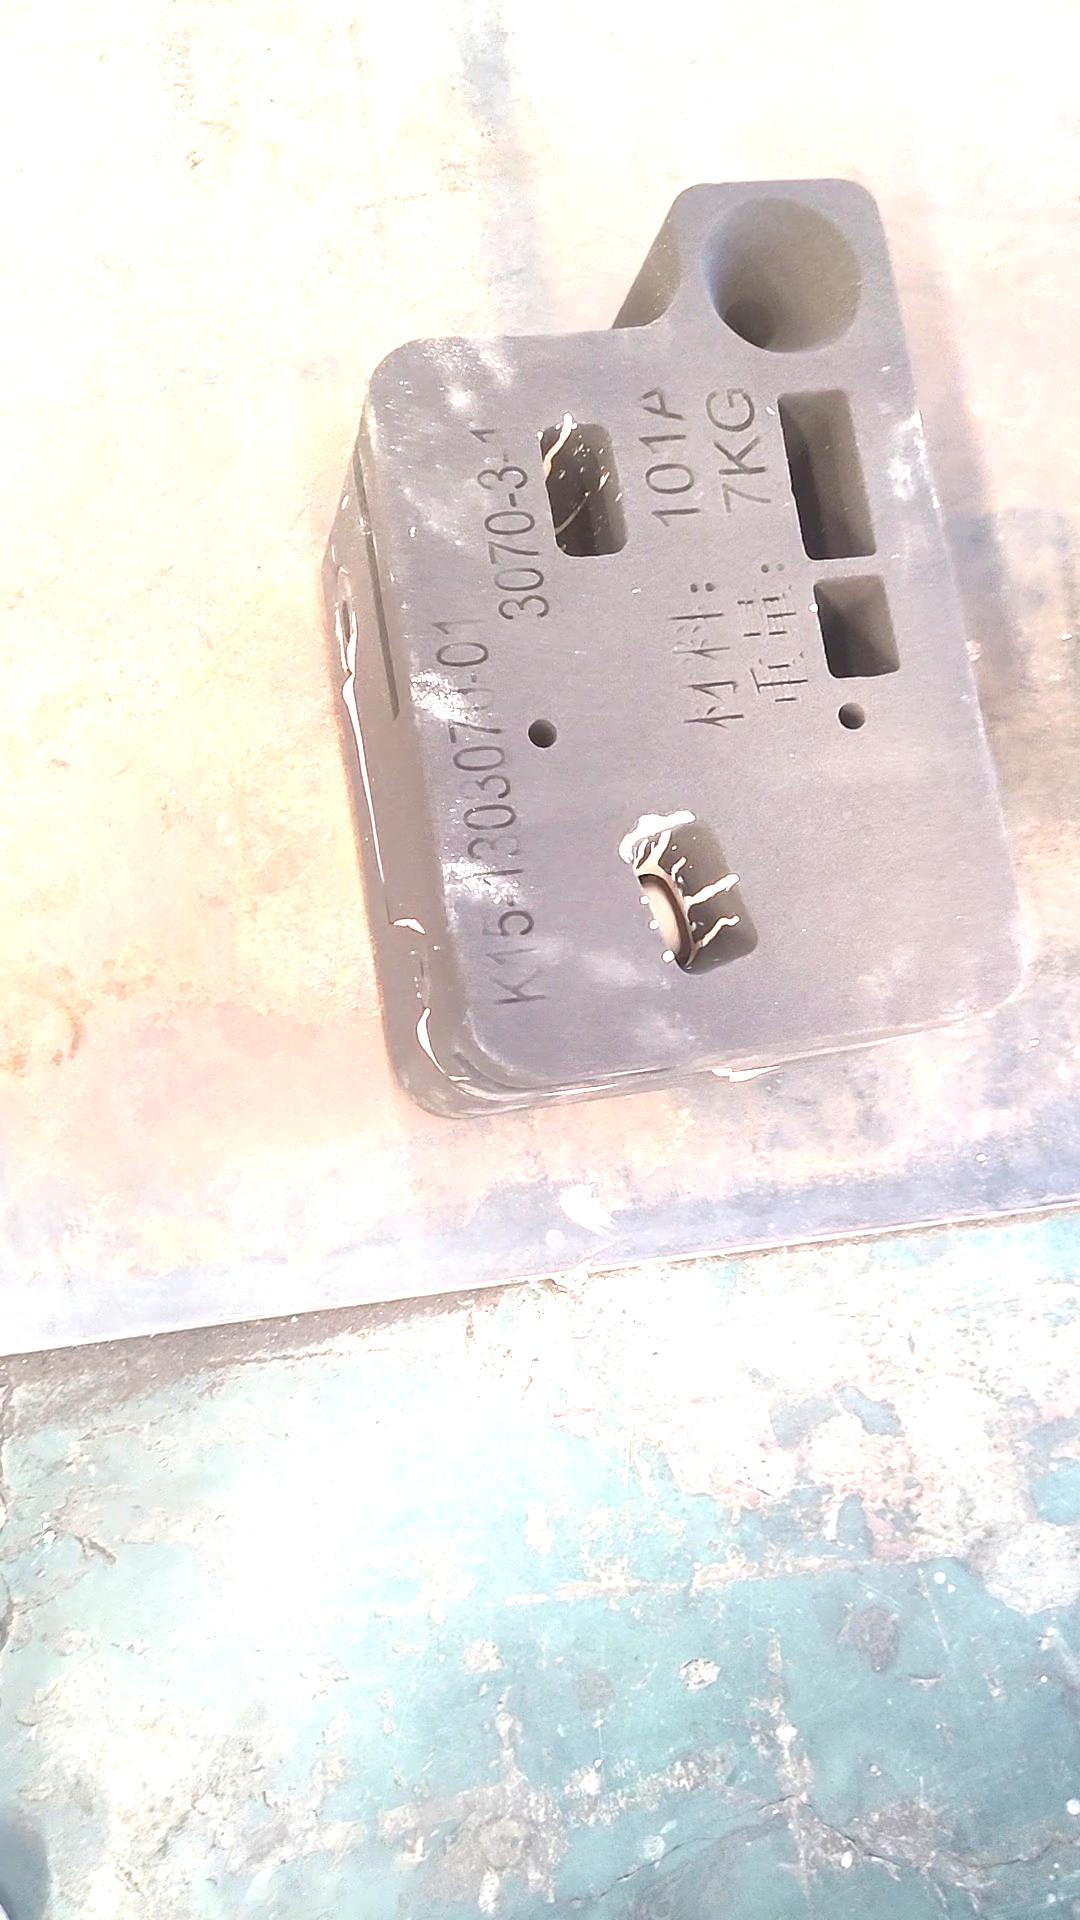pouring hole: (702, 194, 862, 356)
